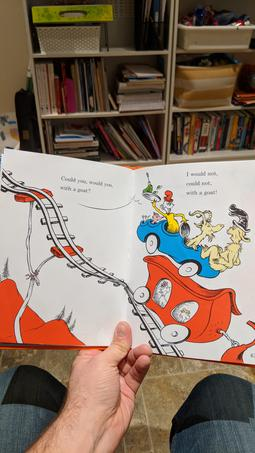text block: (54, 168, 119, 196), (182, 165, 226, 202)
